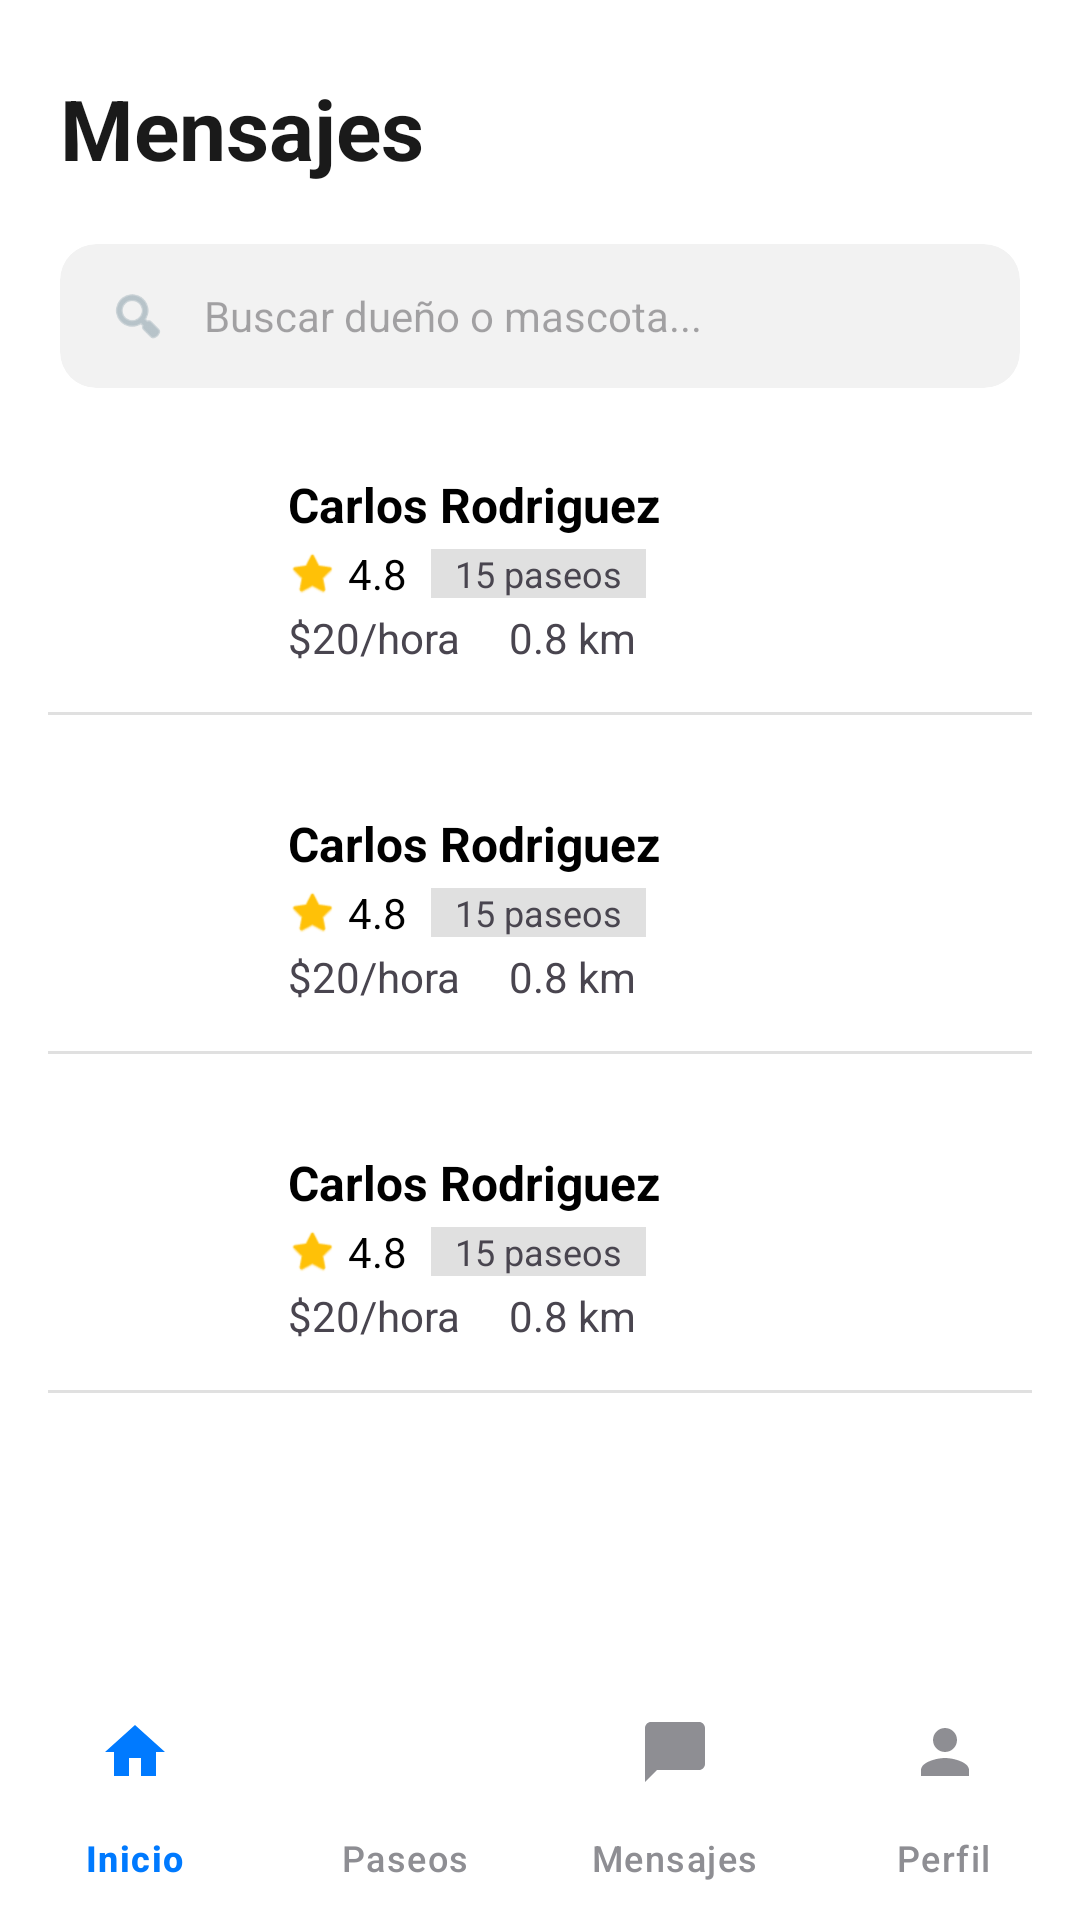

Icons on this 1080w x 1920h Android screen, each with its box as (x1, y1, x2, y2):
search: (116, 294, 160, 338)
star on: (292, 554, 332, 593), (292, 893, 332, 932), (292, 1232, 332, 1271)
